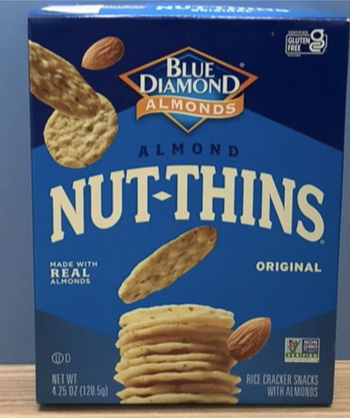crackers_150g: (37, 26, 324, 397)
